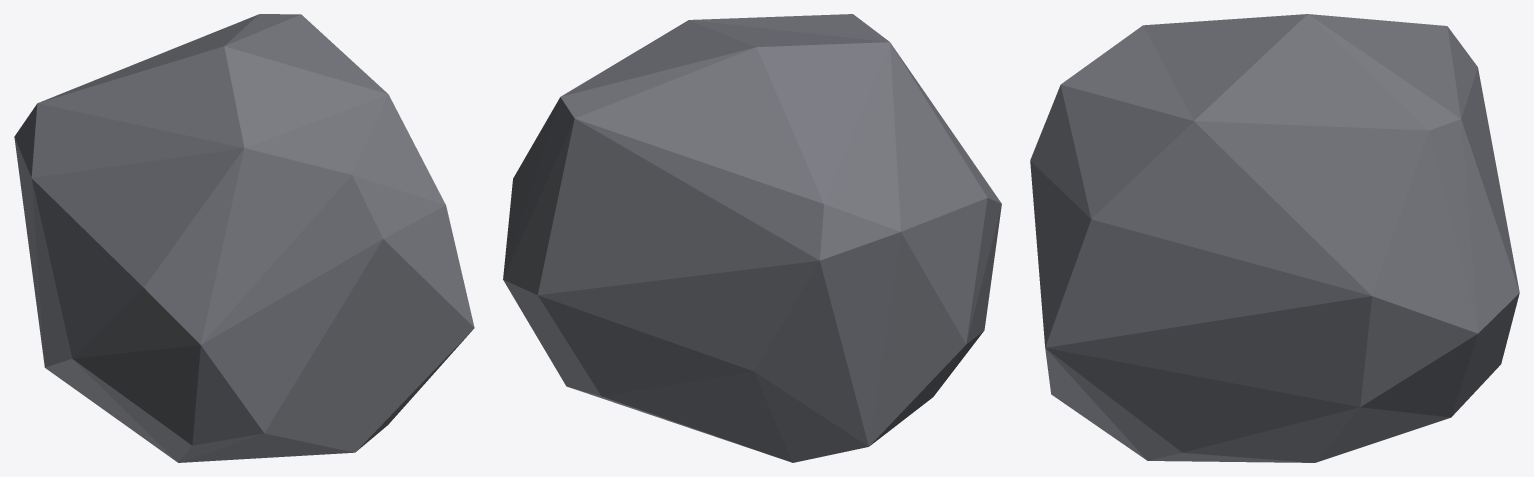
File: Rock_03.fbx
3 views of the same model, side by side, from view 1: azimuth 30°, elevation 25°; view 2: azimuth 150°, elevation 25°; view 3: azimuth 270°, elevation 25° (orthographic). The views are drawn at different scales.
Parts seen in each view (by area): view 1: Rock_03; view 2: Rock_03; view 3: Rock_03.
Boxes of the visible parts, x1=… form: Rock_03: x1=14, y1=14, x2=474, y2=462; Rock_03: x1=503, y1=14, x2=1001, y2=462; Rock_03: x1=1030, y1=14, x2=1519, y2=462.
Bounding box in the file's own units: 1.02 × 0.9116 × 1.02.
